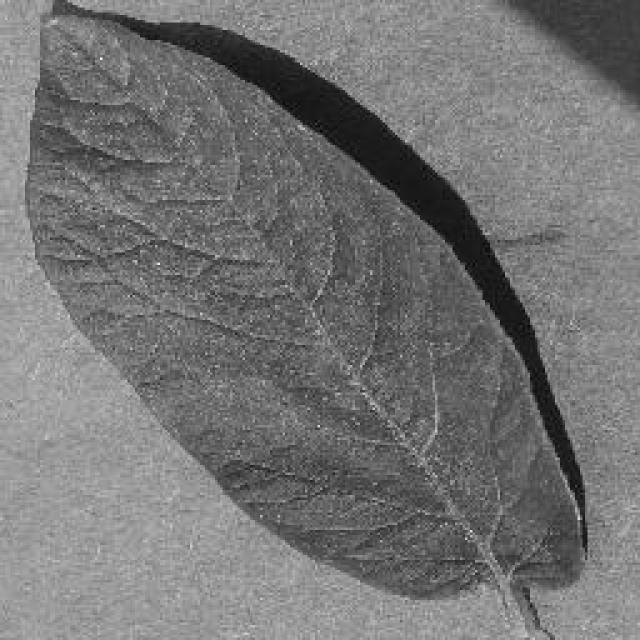Potato: (22, 0, 590, 610)
